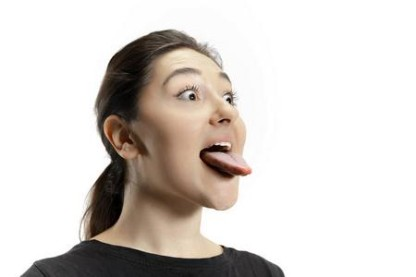张嘴: (200, 138, 250, 190)
